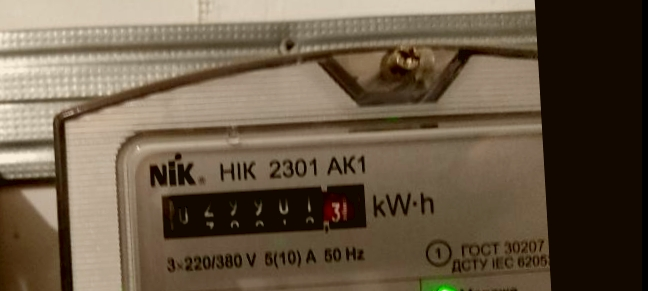0: (274, 191, 291, 216), (174, 202, 190, 225)
1: (301, 189, 315, 214)
2: (200, 196, 216, 219)
3: (327, 200, 343, 223)
9: (251, 194, 264, 218), (226, 195, 239, 216)
screen: (152, 175, 376, 249)
